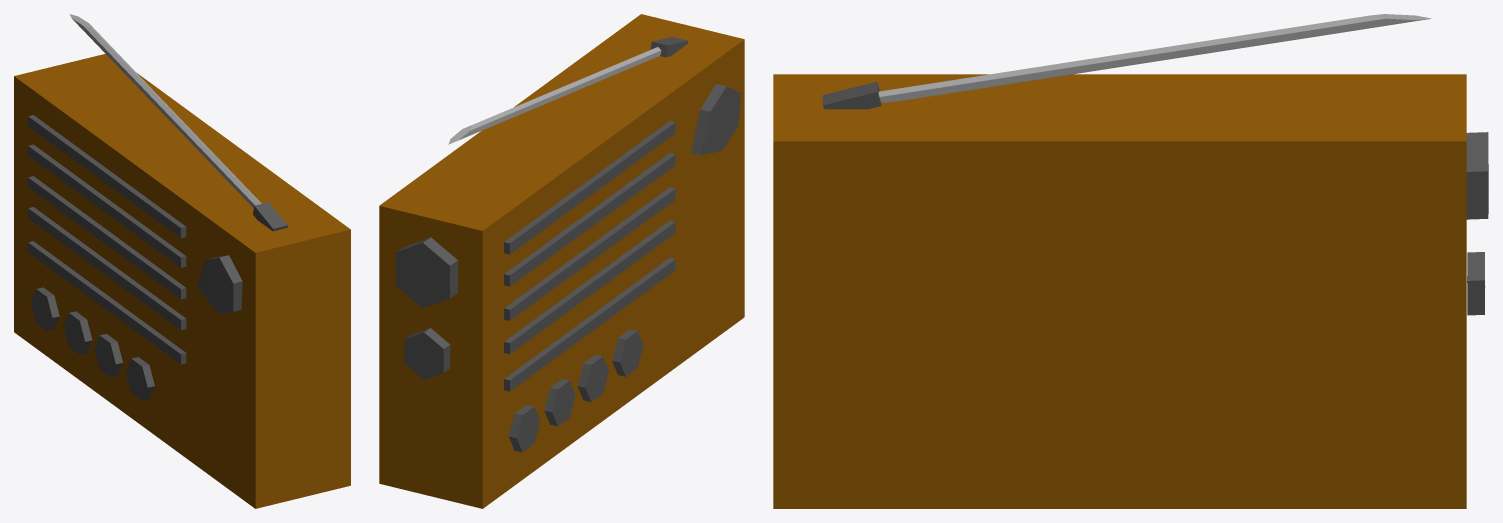
Rendered from radio.fbx.
The picture shows the model from 3 angles, left to right: view 1: azimuth 30°, elevation 25°; view 2: azimuth 150°, elevation 25°; view 3: azimuth 270°, elevation 25°; orthographic projection. The views are drawn at different scales.
Parts seen in each view (by area): view 1: office_stuff:pCube1, office_stuff:pCube5, office_stuff:pCube4, office_stuff:pCube6, office_stuff:pCube2, office_stuff:pCube3, office_stuff:pCylinder16, office_stuff:pCylinder11, office_stuff:pCylinder13, office_stuff:pCylinder14, office_stuff:pCylinder12, office_stuff:pCylinder15 (+1 smaller); view 2: office_stuff:pCube1, office_stuff:pCylinder9, office_stuff:pCube2, office_stuff:pCube3, office_stuff:pCube6, office_stuff:pCube4, office_stuff:pCube5, office_stuff:pCylinder11, office_stuff:pCylinder16, office_stuff:pCylinder10, office_stuff:pCylinder15, office_stuff:pCylinder14 (+3 smaller); view 3: office_stuff:pCube1, office_stuff:pCylinder16, office_stuff:pCylinder9, office_stuff:pCube7, office_stuff:pCylinder10.
Boxes of the visible parts, <box> form: office_stuff:pCube1: <box>14,54,350,508</box>; office_stuff:pCube5: <box>28,144,186,267</box>; office_stuff:pCube4: <box>28,176,186,299</box>; office_stuff:pCube6: <box>28,115,186,238</box>; office_stuff:pCube2: <box>28,241,186,364</box>; office_stuff:pCube3: <box>28,207,186,330</box>; office_stuff:pCylinder16: <box>69,14,261,208</box>; office_stuff:pCylinder11: <box>197,255,242,313</box>; office_stuff:pCylinder13: <box>63,311,92,354</box>; office_stuff:pCylinder14: <box>94,334,122,377</box>; office_stuff:pCylinder12: <box>30,287,59,330</box>; office_stuff:pCylinder15: <box>126,357,154,400</box>; office_stuff:pCube1: <box>379,14,744,508</box>; office_stuff:pCylinder9: <box>395,237,457,308</box>; office_stuff:pCube2: <box>504,257,675,391</box>; office_stuff:pCube3: <box>504,220,675,354</box>; office_stuff:pCube6: <box>504,121,675,254</box>; office_stuff:pCube4: <box>504,187,675,320</box>; office_stuff:pCube5: <box>504,153,675,286</box>; office_stuff:pCylinder11: <box>691,83,740,155</box>; office_stuff:pCylinder16: <box>448,47,661,144</box>; office_stuff:pCylinder10: <box>404,328,450,379</box>; office_stuff:pCylinder15: <box>612,329,643,376</box>; office_stuff:pCylinder14: <box>577,354,608,401</box>; office_stuff:pCube1: <box>773,74,1466,508</box>; office_stuff:pCylinder16: <box>878,14,1431,102</box>; office_stuff:pCylinder9: <box>1466,132,1488,219</box>; office_stuff:pCube7: <box>822,81,881,109</box>; office_stuff:pCylinder10: <box>1467,252,1485,315</box>.
Size of the model in its own units: 2.18 by 6.3 by 8.93.
